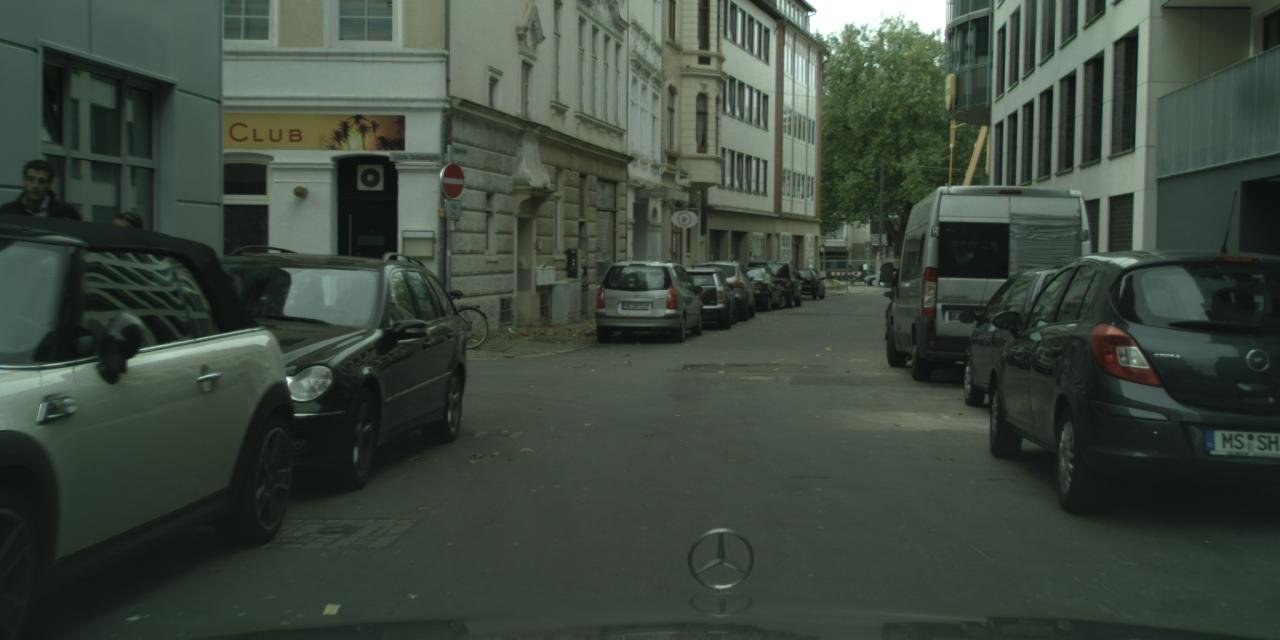ped: (0, 158, 88, 418), (92, 210, 180, 425)
